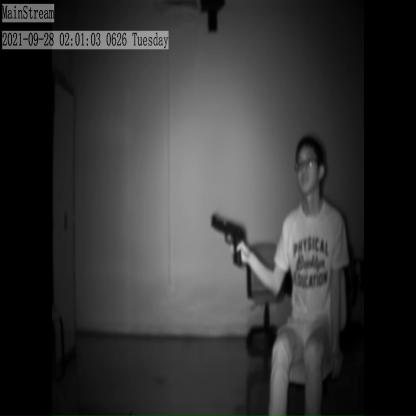weapon: (210, 208, 248, 269)
